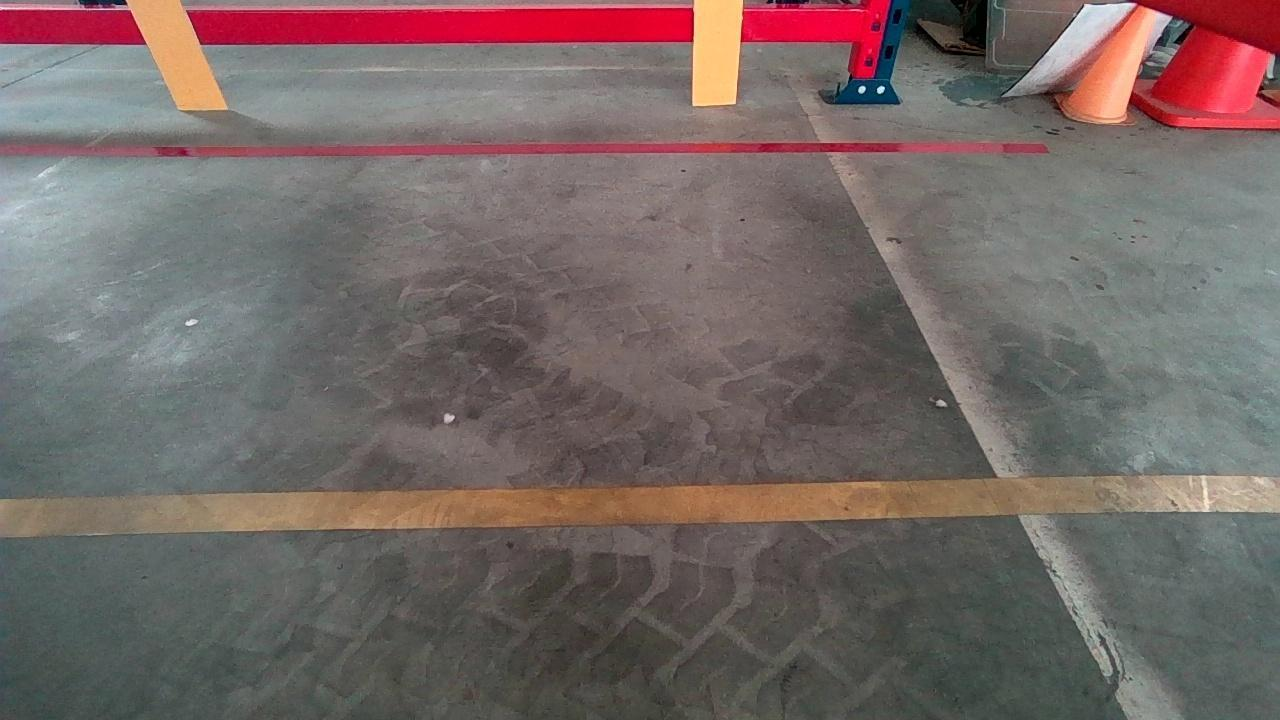h_rack: (0, 6, 859, 44)
orange_strip: (126, 0, 230, 108), (693, 0, 741, 103)
red_line: (0, 140, 1047, 154)
